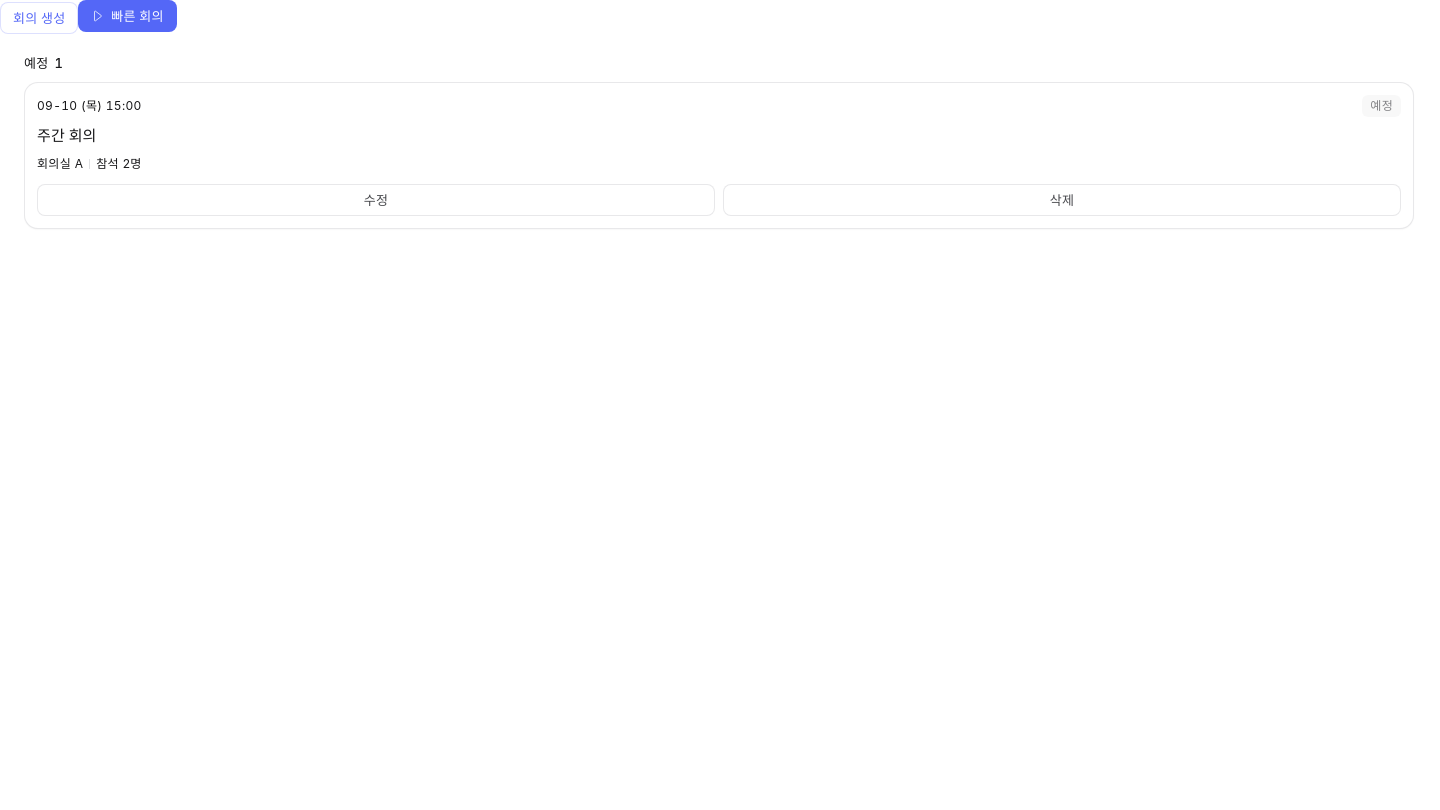
Test case: 회의 정보 수정 — 목록 카드의 [수정]이 여는 모달 › 고치던 채로 닫으면 한 번 묻는다 — 고친 것이 없으면 묻지 않는다
Click the button "수정": (376,200) [37,184,715,216]
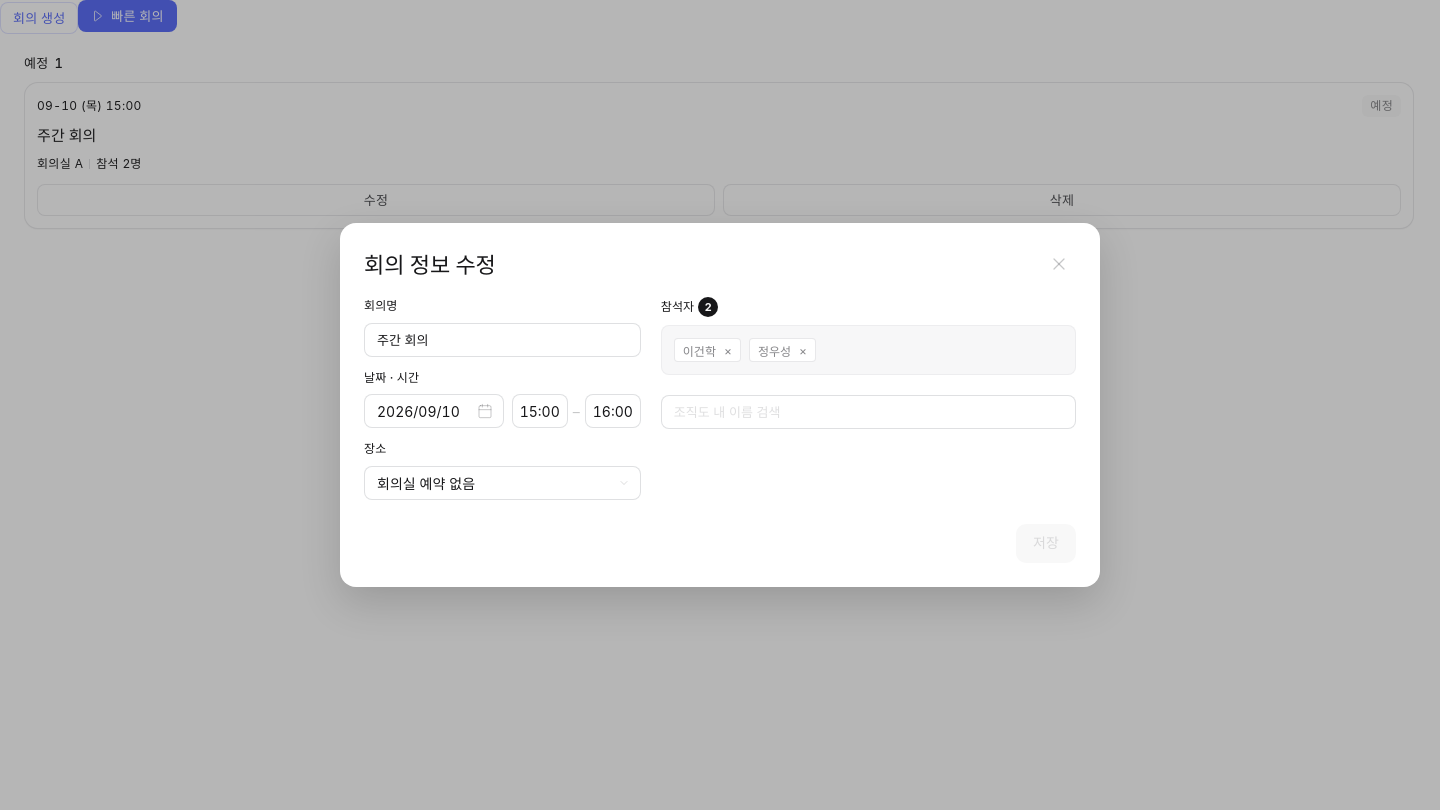
Click the button named "닫기": (1059,264) [1042,247,1076,281]
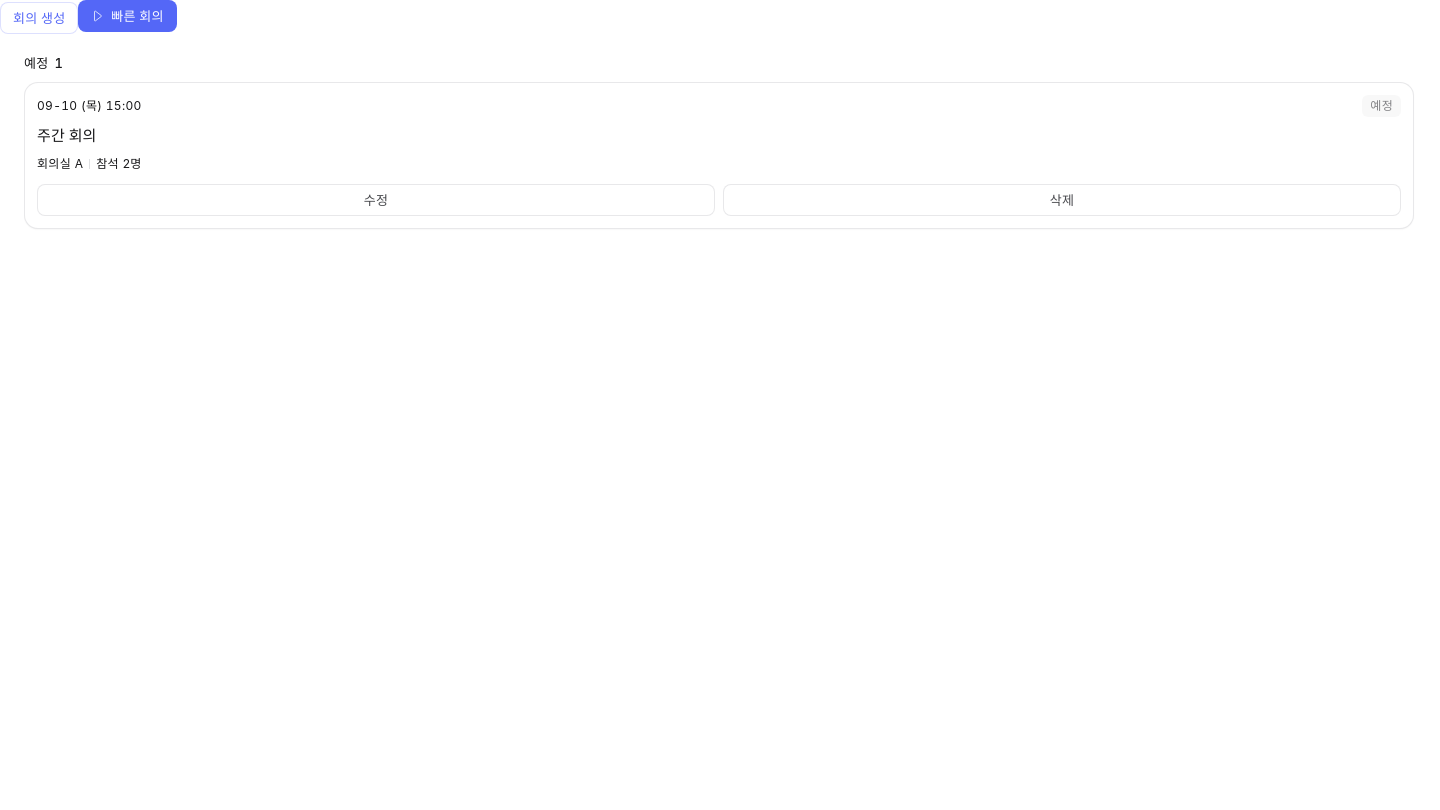
Expected: the heading "회의 정보 수정" is gone
Click the button "수정": (376,200) [37,184,715,216]
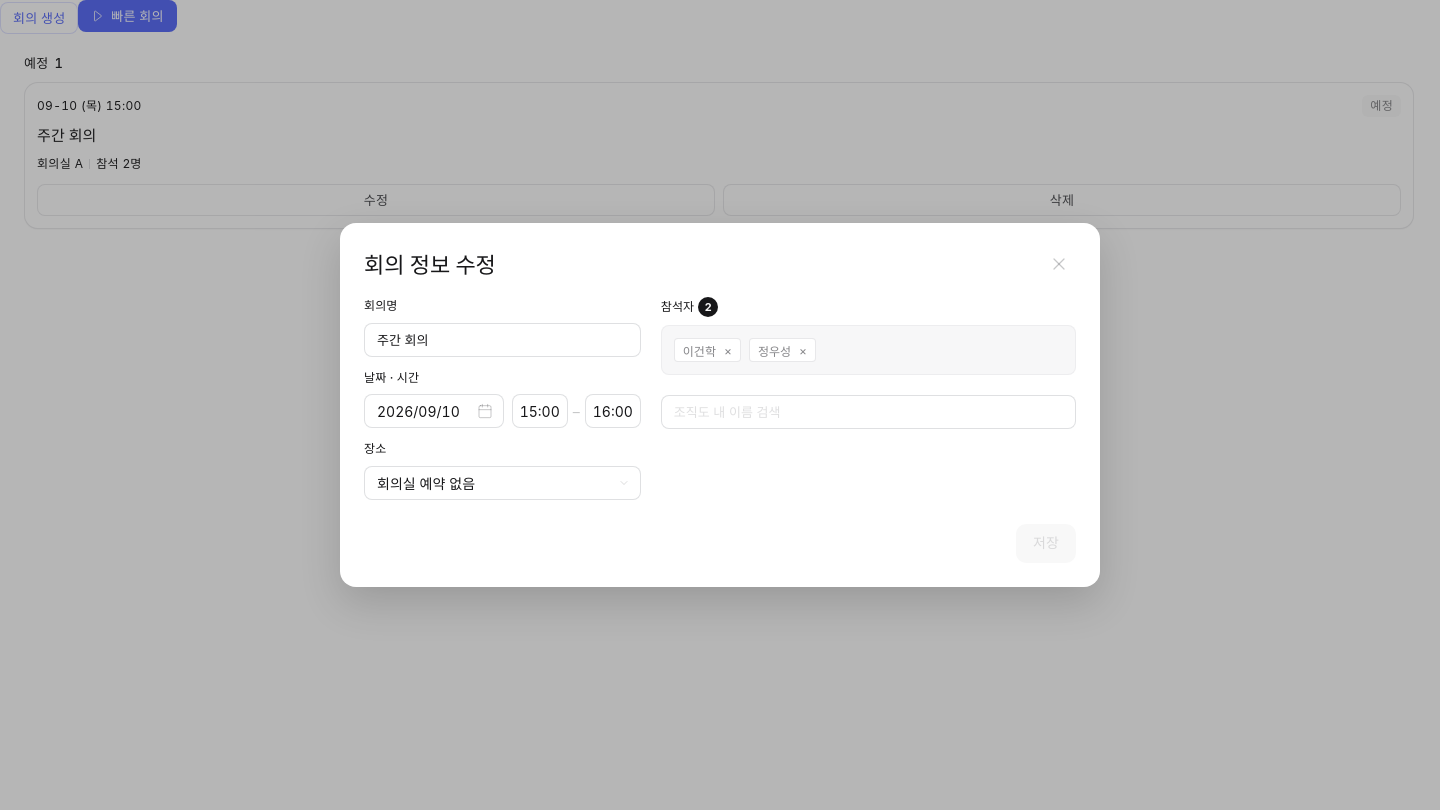
Replace the text in the field labelled "회의명" with "주간 회의 2": (502,340) [364,323,641,357]
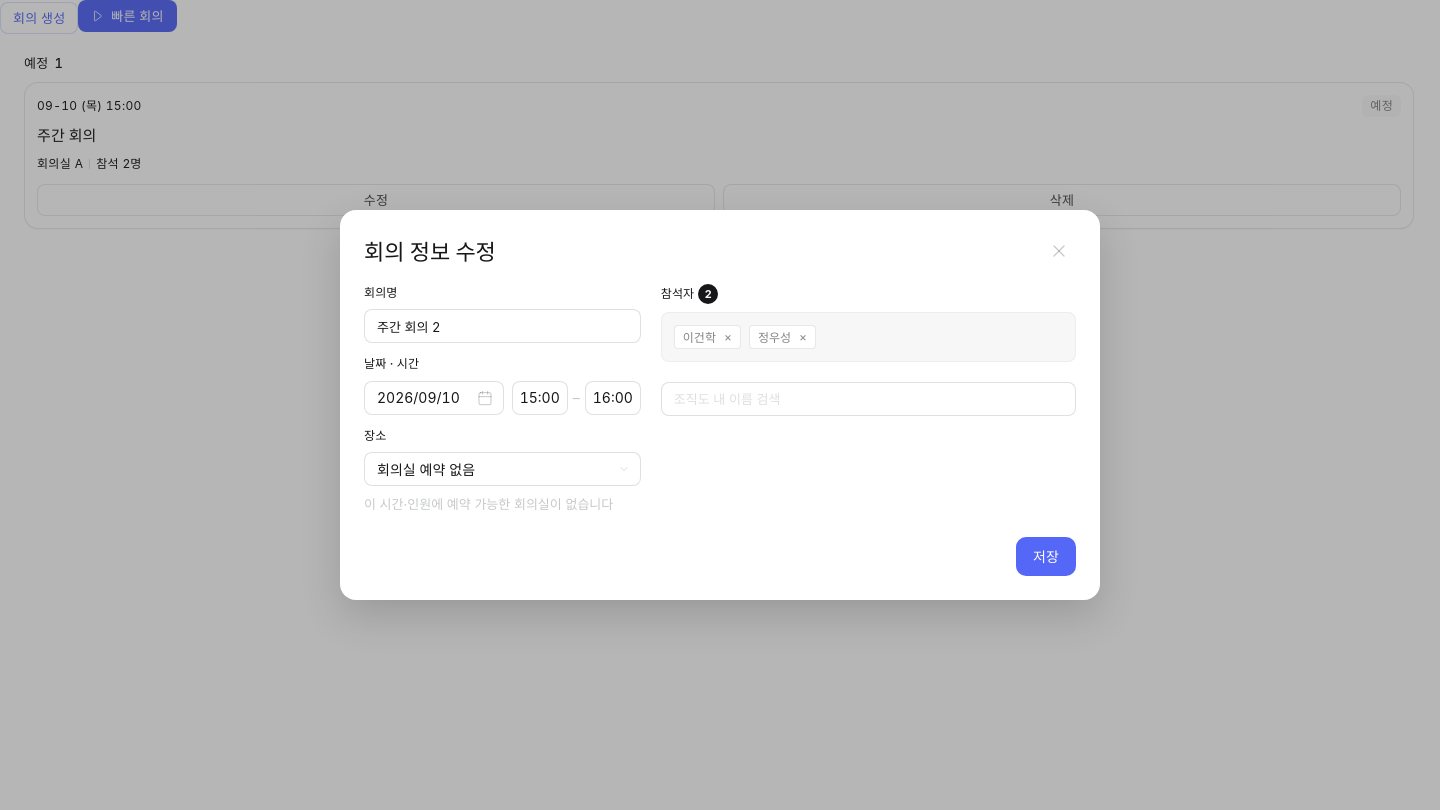
Click the button named "닫기": (1059,251) [1042,234,1076,268]
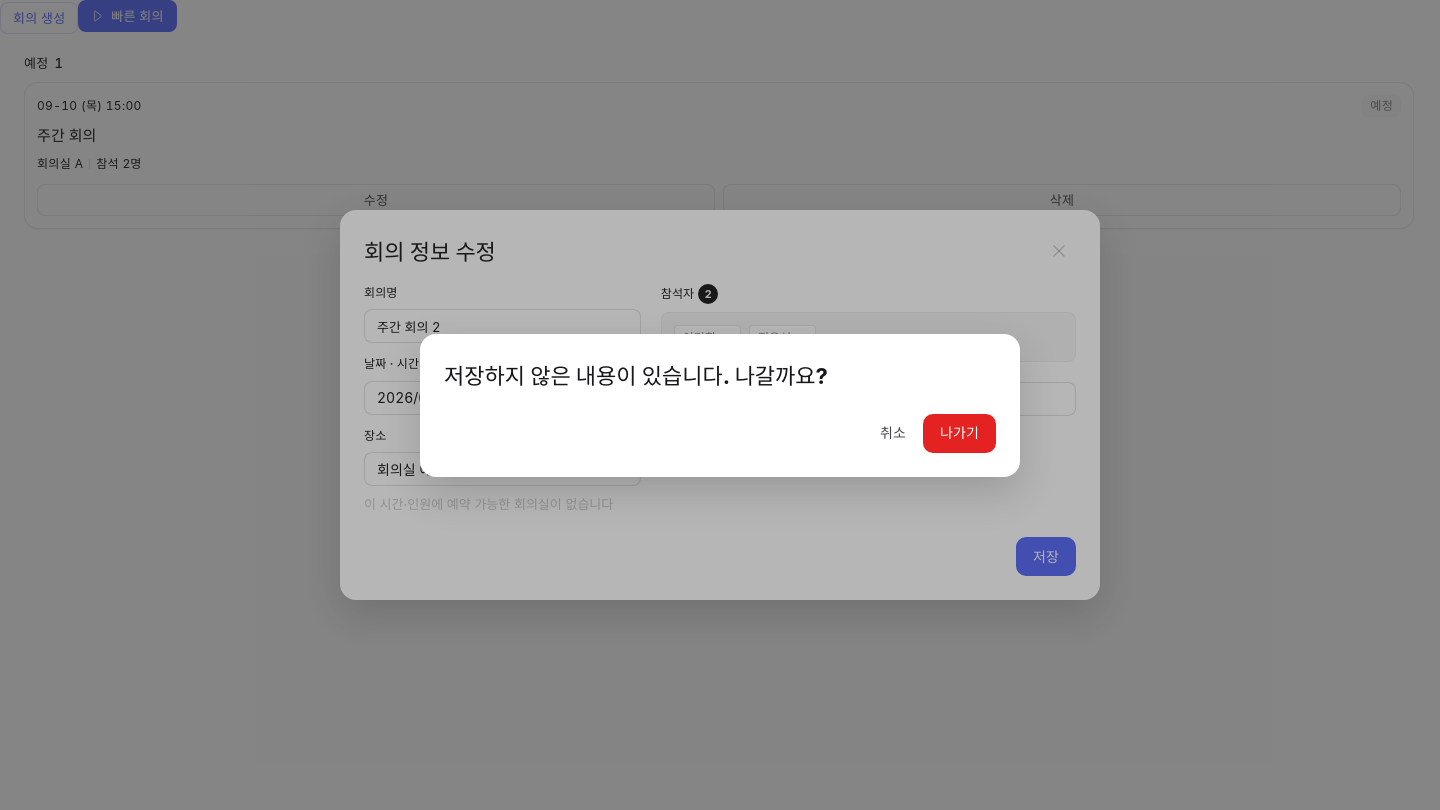
Click the button "나가기": (959,433) [923,414,996,452]
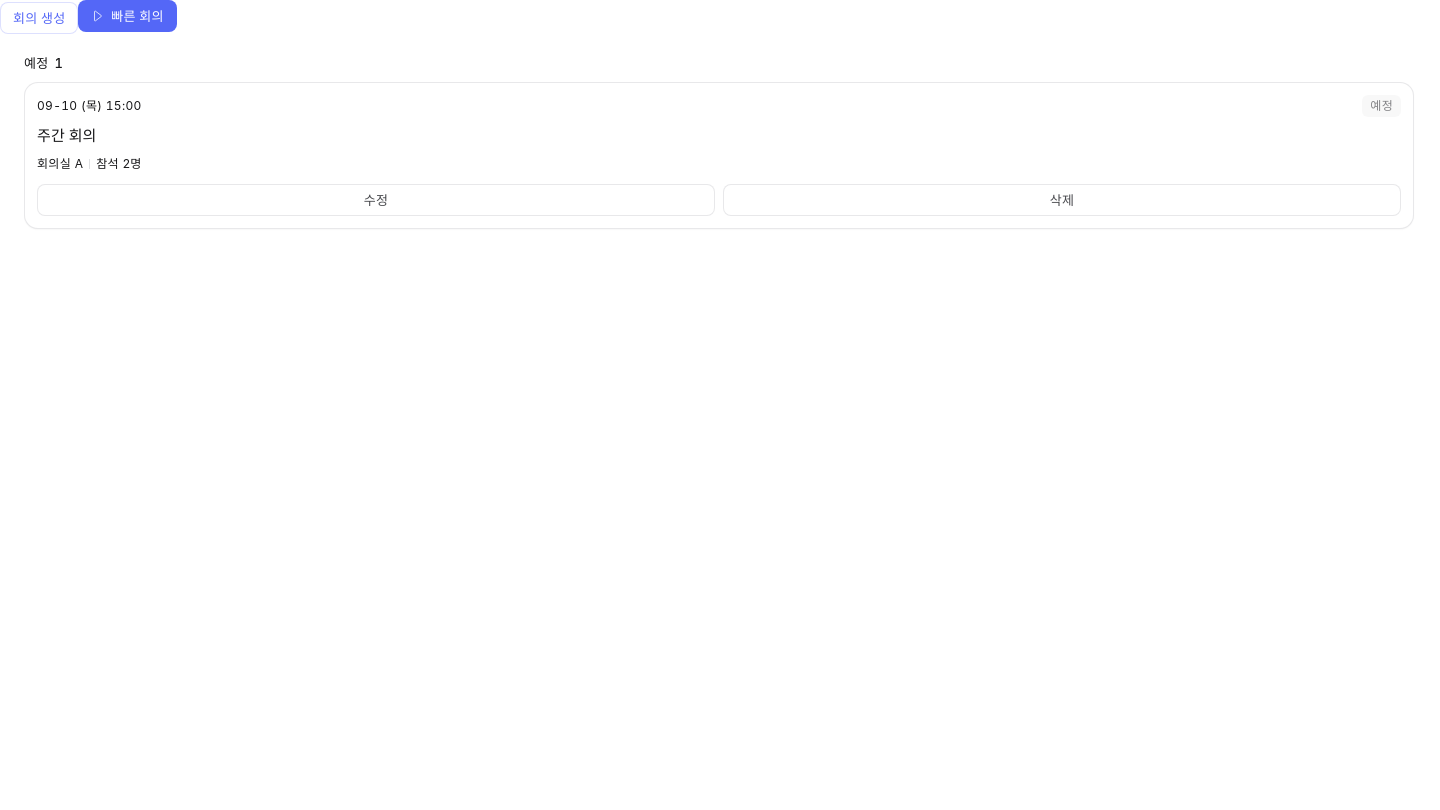
Expected: the heading "회의 정보 수정" is gone
